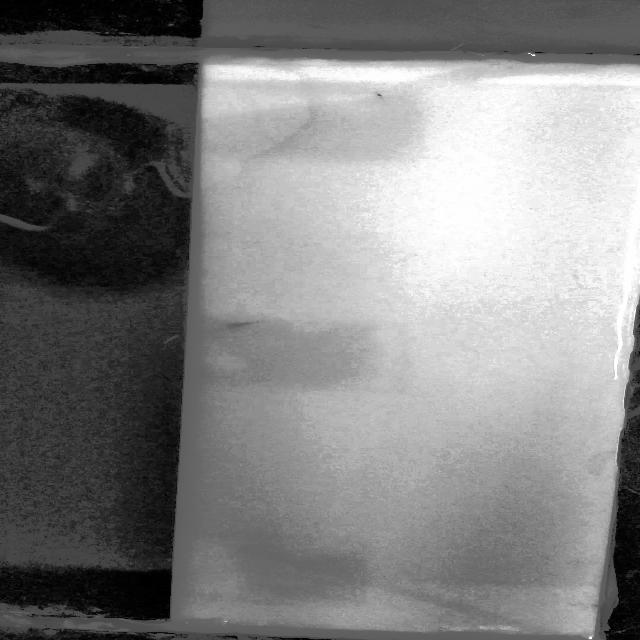shrimp: (223, 318, 262, 336), (370, 90, 387, 100)
